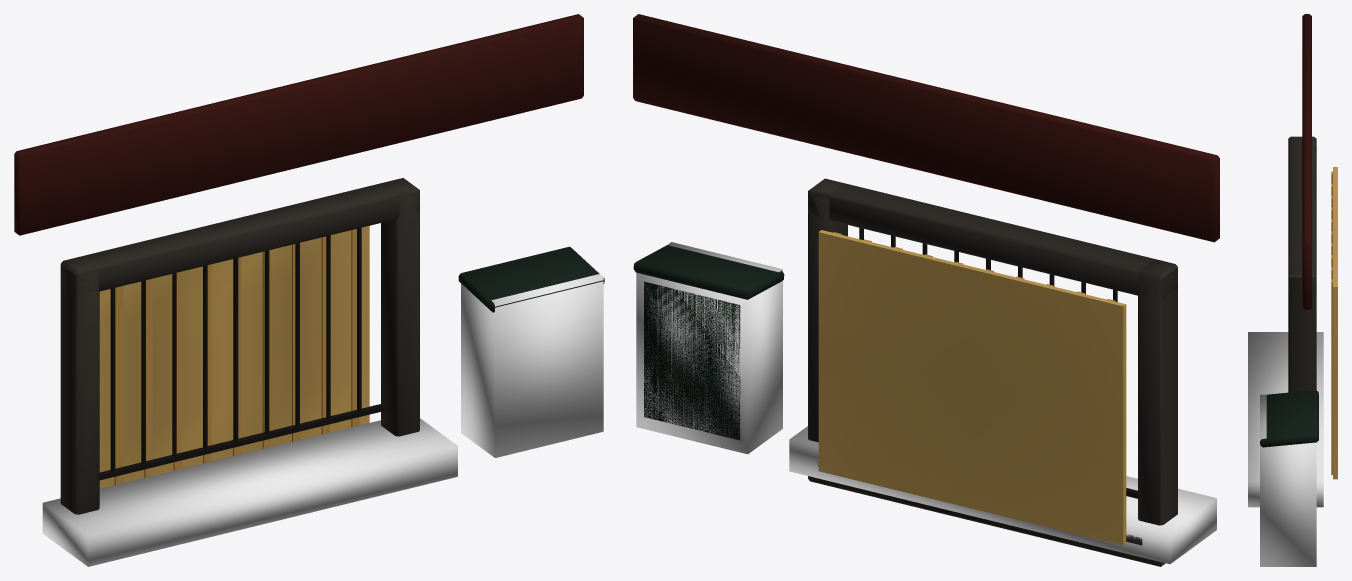
File: ventanilla_admin.glb
The picture shows the model from 3 angles, left to right: view 1: azimuth 30°, elevation 25°; view 2: azimuth 150°, elevation 25°; view 3: azimuth 270°, elevation 25°; orthographic projection. The views are drawn at different scales.
Visible parts, largest first — view 1: ventanilla, cortinilla, ventanilla-colcaja, buzon-colcaja, buzon; view 2: ventanilla, cortinilla, buzon-colcaja, buzon, ventanilla-colcaja; view 3: ventanilla, buzon-colcaja, ventanilla-colcaja, buzon, cortinilla.
Boxes of the visible parts, x1,y1,x2,y2 form: ventanilla: [14, 14, 583, 514]; cortinilla: [99, 226, 369, 488]; ventanilla-colcaja: [42, 418, 457, 566]; buzon-colcaja: [461, 274, 603, 457]; buzon: [458, 246, 604, 312]; ventanilla: [633, 14, 1219, 566]; cortinilla: [818, 230, 1126, 545]; buzon-colcaja: [636, 242, 782, 454]; buzon: [633, 245, 784, 440]; ventanilla-colcaja: [789, 426, 1216, 564]; ventanilla: [1288, 14, 1316, 392]; buzon-colcaja: [1260, 394, 1316, 566]; ventanilla-colcaja: [1248, 332, 1323, 507]; buzon: [1260, 390, 1318, 447]; cortinilla: [1331, 167, 1337, 479].
Size of the model in its own units: 2.3 by 1.58 by 0.38.
